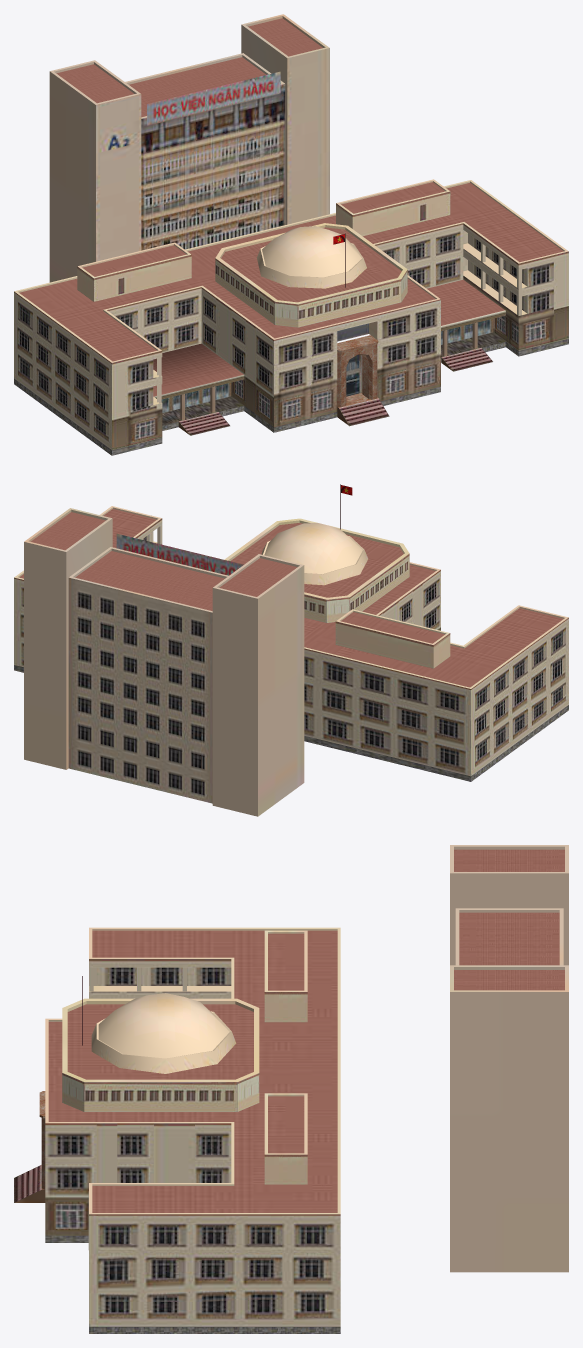
The picture shows the model from 3 angles, top to bottom: view 1: azimuth 30°, elevation 25°; view 2: azimuth 150°, elevation 25°; view 3: azimuth 270°, elevation 25°; orthographic projection. The views are drawn at different scales.
Parts seen in each view (by area): view 1: 5c40453b8fd8702b1cdc8990.001; view 2: 5c40453b8fd8702b1cdc8990.001; view 3: 5c40453b8fd8702b1cdc8990.001.
Boxes of the visible parts, box(x1,y1,x2,y2) form: 5c40453b8fd8702b1cdc8990.001: box(14, 14, 568, 455); 5c40453b8fd8702b1cdc8990.001: box(14, 484, 568, 816); 5c40453b8fd8702b1cdc8990.001: box(14, 845, 568, 1333).
Size of the model in its own units: 62 by 28.25 by 50.67.
1 material, 1 textured.
